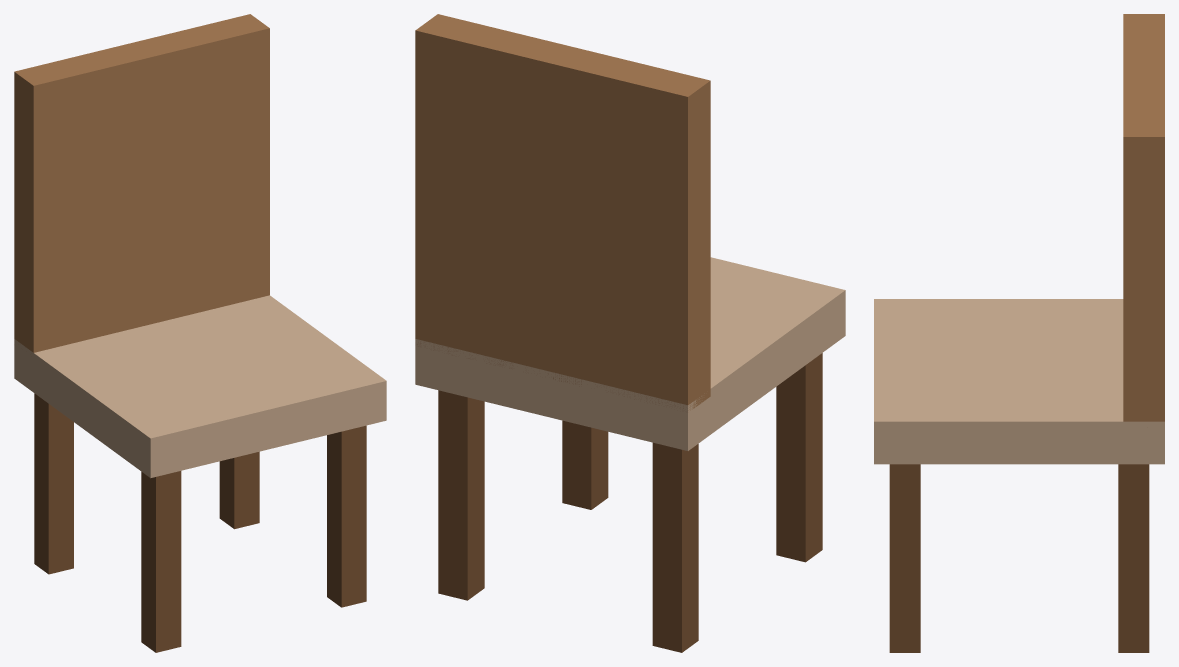
The model's file is chair-modern-01.glb.
The picture shows the model from 3 angles, left to right: view 1: azimuth 30°, elevation 25°; view 2: azimuth 150°, elevation 25°; view 3: azimuth 270°, elevation 25°; orthographic projection. The views are drawn at different scales.
Visible parts, largest first — view 1: back, seat, leg--0.22-0.22, leg-0.22-0.22, leg--0.22--0.22, leg-0.22--0.22; view 2: back, seat, leg--0.22--0.22, leg-0.22--0.22, leg--0.22-0.22, leg-0.22-0.22; view 3: seat, back, leg-0.22--0.22, leg-0.22-0.22.
Part boxes in pixels (x1=…): back: x1=14, y1=14, x2=269, y2=352; seat: x1=14, y1=295, x2=386, y2=478; leg--0.22-0.22: x1=141, y1=471, x2=181, y2=652; leg-0.22-0.22: x1=327, y1=425, x2=366, y2=607; leg--0.22--0.22: x1=34, y1=393, x2=73, y2=574; leg-0.22--0.22: x1=219, y1=451, x2=259, y2=529; back: x1=415, y1=14, x2=710, y2=410; seat: x1=415, y1=257, x2=845, y2=450; leg--0.22--0.22: x1=652, y1=442, x2=698, y2=652; leg-0.22--0.22: x1=438, y1=390, x2=484, y2=600; leg--0.22-0.22: x1=776, y1=353, x2=822, y2=562; leg-0.22-0.22: x1=562, y1=420, x2=608, y2=509; seat: x1=874, y1=299, x2=1164, y2=464; back: x1=1123, y1=14, x2=1164, y2=421; leg-0.22--0.22: x1=1118, y1=464, x2=1149, y2=652; leg-0.22-0.22: x1=889, y1=464, x2=920, y2=652.
Size of the model in its own units: 0.56 by 1.11 by 0.56.
